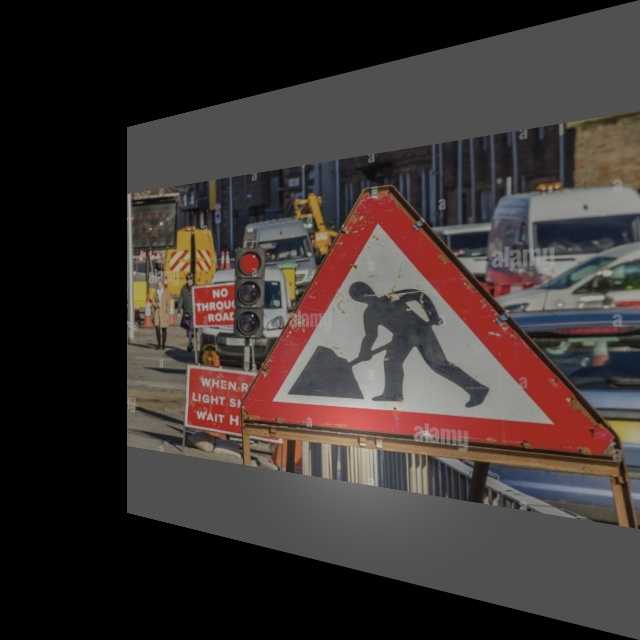Men_at_Work: (258, 171, 579, 463)
